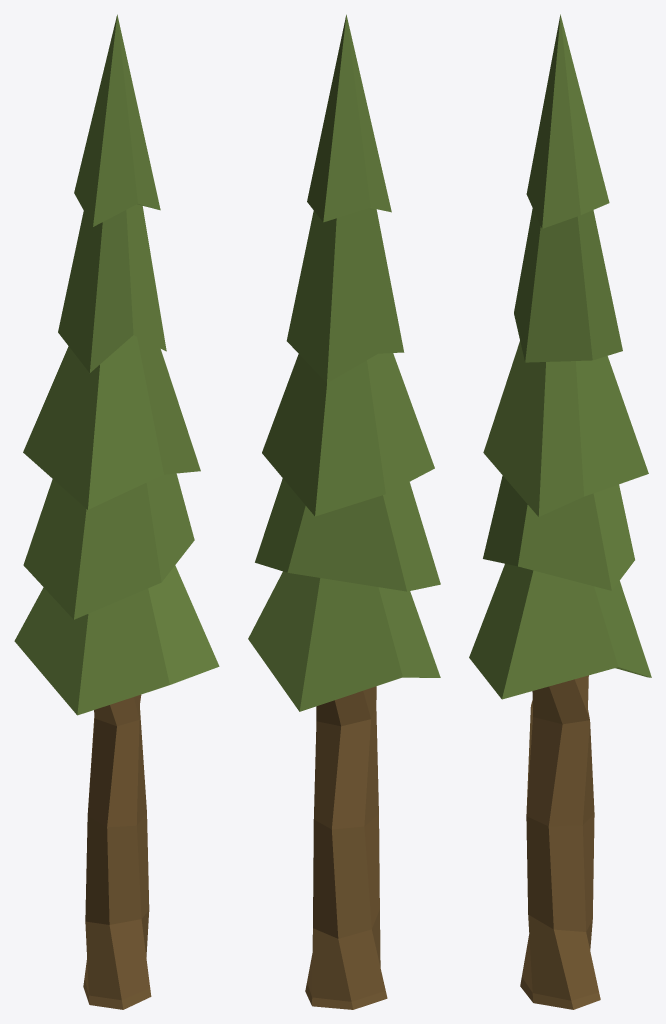
Rendered from Trees 2.fbx.
The picture shows the model from 3 angles, left to right: view 1: azimuth 30°, elevation 25°; view 2: azimuth 150°, elevation 25°; view 3: azimuth 270°, elevation 25°; orthographic projection.
Visible parts, largest first — view 1: Tree 3; view 2: Tree 3; view 3: Tree 3.
Part boxes in pixels (box(x1,y1,x2,y2)): Tree 3: box(14, 14, 219, 1009); Tree 3: box(248, 14, 440, 1009); Tree 3: box(469, 14, 651, 1009).
Bounding box in the file's own units: 225 × 1374 × 233.
